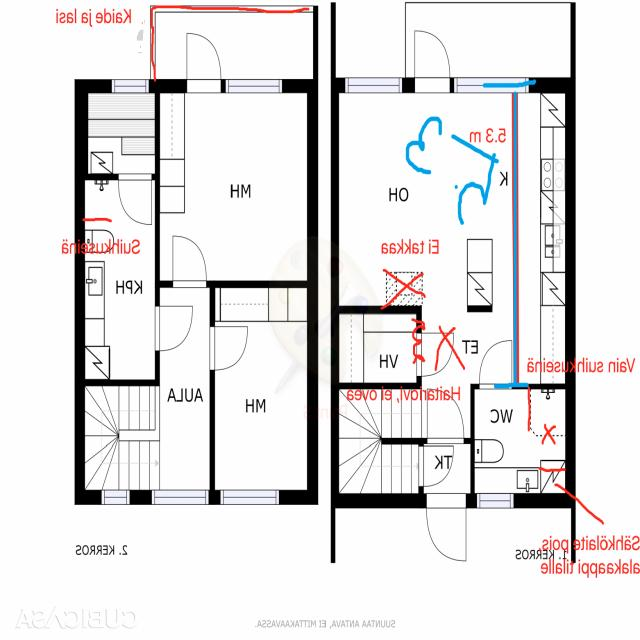door: (426, 492, 466, 561), (187, 32, 222, 92), (416, 31, 450, 92), (427, 388, 464, 444), (172, 235, 206, 287), (155, 306, 193, 350), (119, 174, 152, 224), (210, 326, 248, 369), (479, 339, 512, 388), (420, 446, 454, 486)
